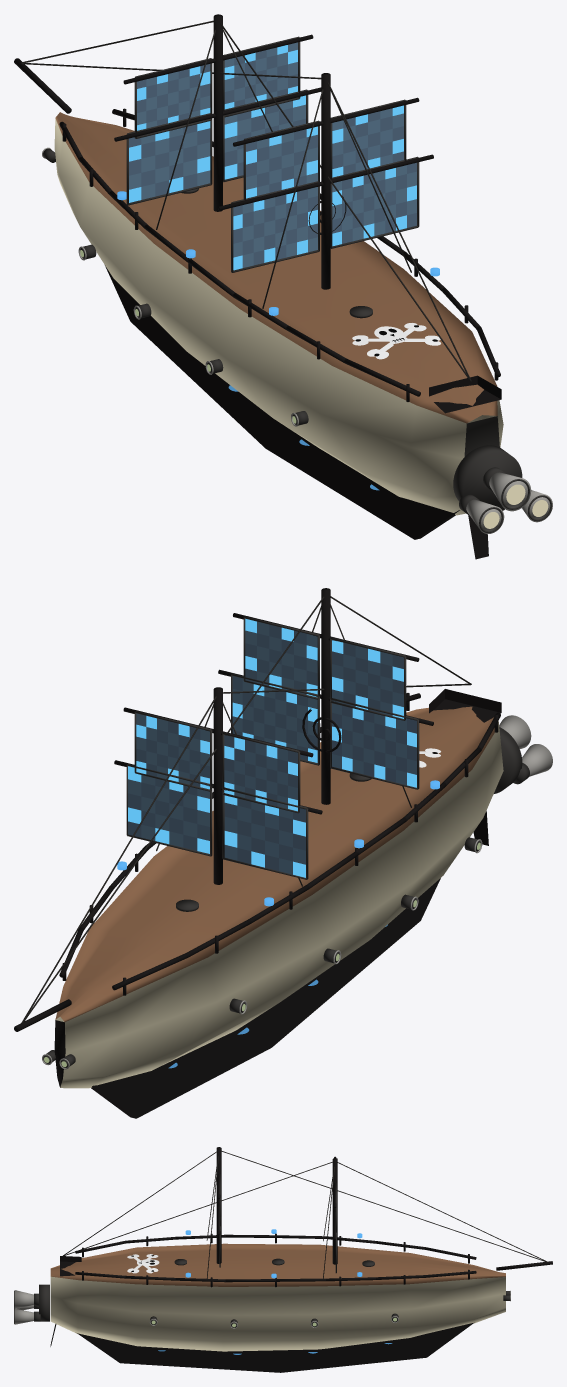
File: Ship_Pirate_2.glb
3 views of the same model, one above another, from view 1: azimuth 30°, elevation 25°; view 2: azimuth 150°, elevation 25°; view 3: azimuth 270°, elevation 25° (orthographic). The views are drawn at different scales.
Parts seen in each view (by area): view 1: Hull_MetalSailingShipBody, SolarPanelSail_Main_01_RigidHeritageArray, Keel_DeepSpaceSailingKeel, SolarPanelSail_Fore_01_RigidHeritageArray, SolarPanelSail_Main_02_RigidHeritageArray, SolarPanelSail_Fore_02_RigidHeritageArray, EngineDeck_AftTransomArmoredMount, Mast_Main_DarkMetalHeritageSpar, Mast_Fore_DarkMetalHeritageSpar, SternTransom_LowReinforcedAftDeckCap, Yard_Main_01_SolarPanelCrossSpar, Yard_Fore_01_SolarPanelCrossSpar (+6 smaller); view 2: Hull_MetalSailingShipBody, Keel_DeepSpaceSailingKeel, SolarPanelSail_Fore_01_RigidHeritageArray, SolarPanelSail_Main_01_RigidHeritageArray, SolarPanelSail_Main_02_RigidHeritageArray, SolarPanelSail_Fore_02_RigidHeritageArray, Mast_Main_DarkMetalHeritageSpar, Mast_Fore_DarkMetalHeritageSpar, SternTransom_LowReinforcedAftDeckCap, RiggingStay_Main_ForwardTautLine, EngineDeck_AftTransomArmoredMount, RiggingStay_Fore_ForwardTautLine (+2 smaller); view 3: Hull_MetalSailingShipBody, Keel_DeepSpaceSailingKeel, Mast_Main_DarkMetalHeritageSpar, RiggingStay_Main_ForwardTautLine, Mast_Fore_DarkMetalHeritageSpar, EngineDeck_AftTransomArmoredMount, RiggingStay_Fore_AftTautLine, RiggingStay_Fore_ForwardTautLine, EngineBell_CenterUpper_IronRocketNozzle.
Boxes of the visible parts, x1,y1,x2,y2 form: Hull_MetalSailingShipBody: (54, 112, 503, 515); SolarPanelSail_Main_01_RigidHeritageArray: (233, 162, 416, 270); Keel_DeepSpaceSailingKeel: (105, 265, 459, 539); SolarPanelSail_Fore_01_RigidHeritageArray: (129, 95, 305, 202); SolarPanelSail_Main_02_RigidHeritageArray: (246, 105, 403, 198); SolarPanelSail_Fore_02_RigidHeritageArray: (137, 42, 297, 130); EngineDeck_AftTransomArmoredMount: (453, 445, 522, 510); Mast_Main_DarkMetalHeritageSpar: (321, 73, 330, 289); Mast_Fore_DarkMetalHeritageSpar: (213, 14, 222, 211); SternTransom_LowReinforcedAftDeckCap: (429, 375, 501, 413); Yard_Main_01_SolarPanelCrossSpar: (218, 154, 433, 210); Yard_Fore_01_SolarPanelCrossSpar: (114, 87, 321, 141); Hull_MetalSailingShipBody: (54, 706, 503, 1088); Keel_DeepSpaceSailingKeel: (91, 878, 440, 1118); SolarPanelSail_Fore_01_RigidHeritageArray: (128, 766, 305, 877); SolarPanelSail_Main_01_RigidHeritageArray: (232, 676, 416, 787); SolarPanelSail_Main_02_RigidHeritageArray: (245, 618, 403, 718); SolarPanelSail_Fore_02_RigidHeritageArray: (136, 713, 297, 811); Mast_Main_DarkMetalHeritageSpar: (321, 588, 330, 804); Mast_Fore_DarkMetalHeritageSpar: (213, 687, 222, 884); SternTransom_LowReinforcedAftDeckCap: (429, 689, 501, 722); RiggingStay_Main_ForwardTautLine: (23, 596, 324, 1022); EngineDeck_AftTransomArmoredMount: (494, 727, 522, 793); RiggingStay_Fore_ForwardTautLine: (21, 696, 216, 1023); Hull_MetalSailingShipBody: (50, 1243, 505, 1351); Keel_DeepSpaceSailingKeel: (77, 1322, 474, 1372); Mast_Main_DarkMetalHeritageSpar: (216, 1147, 221, 1263); RiggingStay_Main_ForwardTautLine: (221, 1151, 545, 1261); Mast_Fore_DarkMetalHeritageSpar: (332, 1158, 337, 1264); EngineDeck_AftTransomArmoredMount: (39, 1284, 49, 1321); RiggingStay_Fore_AftTautLine: (63, 1162, 332, 1256); RiggingStay_Fore_ForwardTautLine: (337, 1162, 547, 1261); EngineBell_CenterUpper_IronRocketNozzle: (14, 1290, 33, 1308).
Size of the model in its own units: 1.78 by 3.31 by 7.21.
